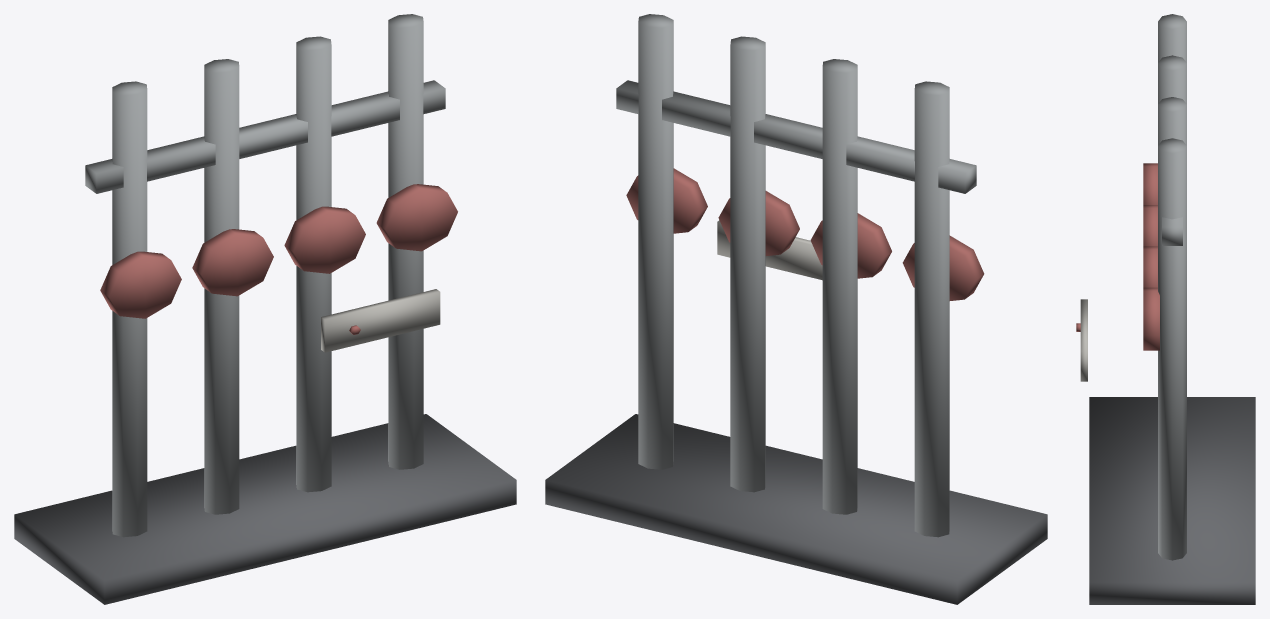
Rendered from sprinkler_riser__wide.glb.
3 renders of one model, left to right at view 1: azimuth 30°, elevation 25°; view 2: azimuth 150°, elevation 25°; view 3: azimuth 270°, elevation 25°, orthographic. The views are drawn at different scales.
Parts seen in each view (by area): view 1: world; view 2: world; view 3: world.
Boxes of the visible parts, x1,y1,x2,y2 form: world: (14,14,516,604); world: (545,14,1047,604); world: (1076,14,1255,604).
Size of the model in its own units: 1.05 by 1.14 by 0.431.
